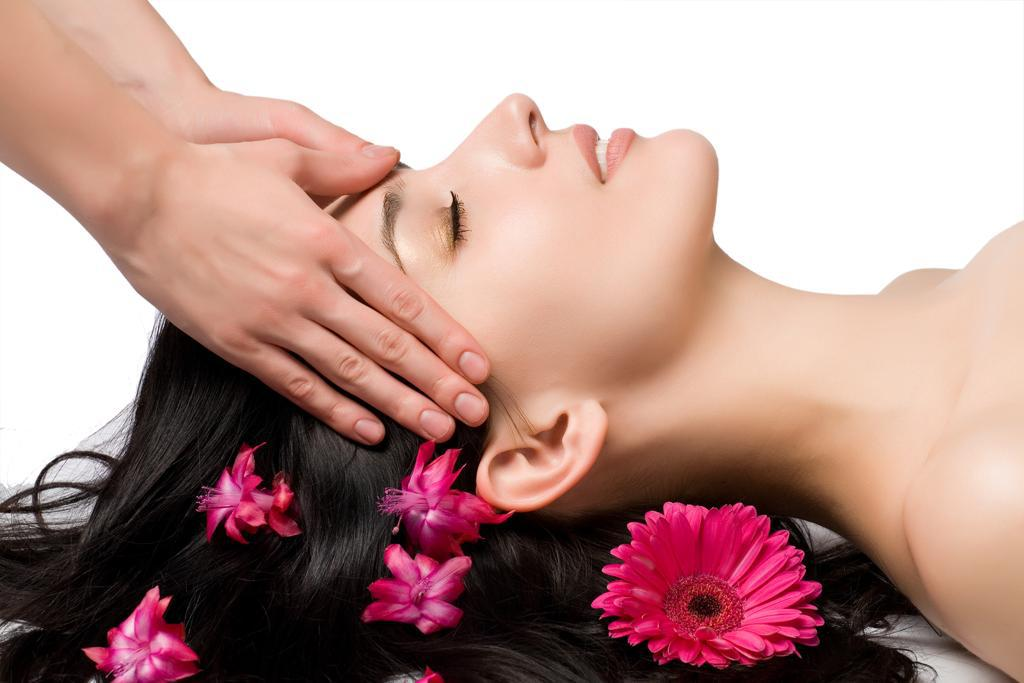face: (253, 85, 719, 341)
